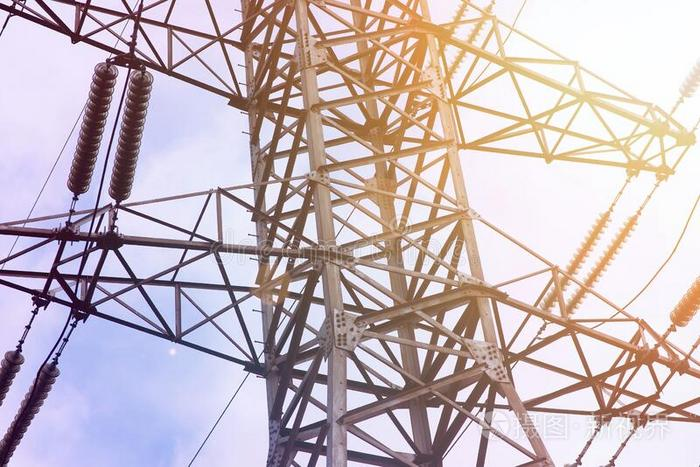insulator: (540, 210, 640, 313), (68, 60, 118, 194), (1, 359, 62, 462), (108, 69, 154, 202), (670, 280, 700, 328), (1, 349, 25, 400)
